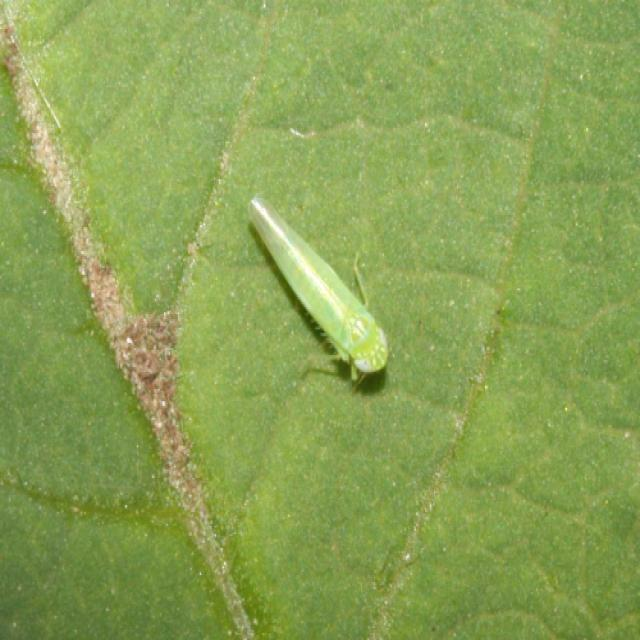Yechan: (230, 182, 412, 403)
